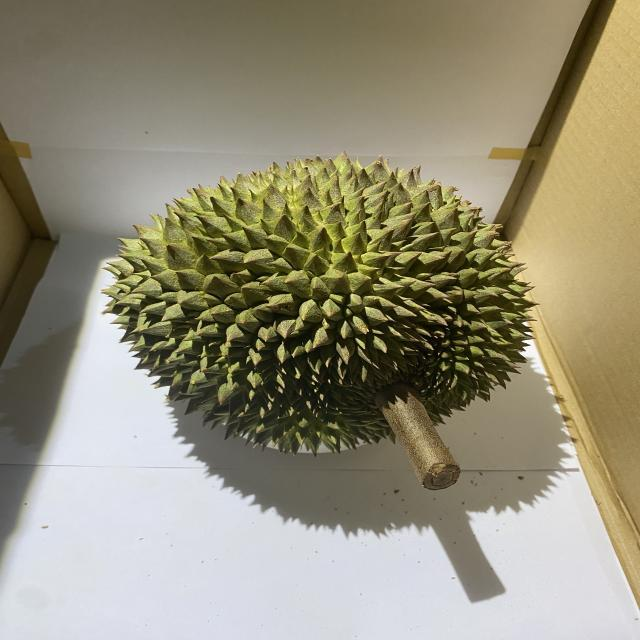immature: (95, 153, 541, 457)
